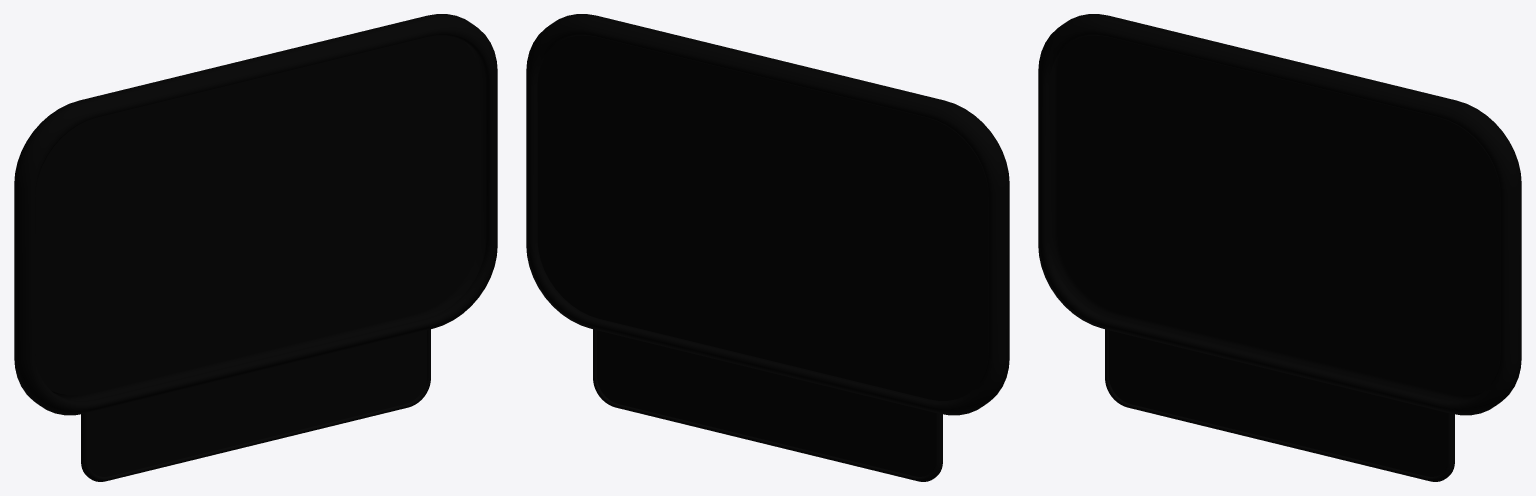
The model's file is BasisCamera.fbx.
3 renders of one model, left to right at view 1: azimuth 30°, elevation 25°; view 2: azimuth 150°, elevation 25°; view 3: azimuth 330°, elevation 25°, orthographic.
Visible parts, largest first — view 1: Camera; view 2: Camera; view 3: Camera.
Part boxes in pixels (box(x1,y1,x2,y2)): Camera: box(14, 14, 497, 481); Camera: box(526, 14, 1009, 481); Camera: box(1038, 14, 1521, 481).
Size of the model in its own units: 184 by 141 by 10.
1 material, 1 textured.
